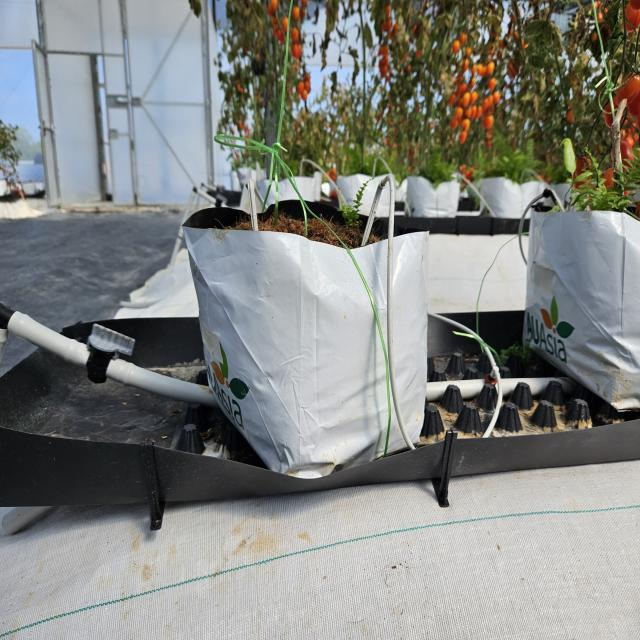Obstacle: (364, 172, 398, 392)
Soilbag: (180, 220, 432, 481), (522, 210, 640, 412)
plant: (577, 7, 640, 202)
